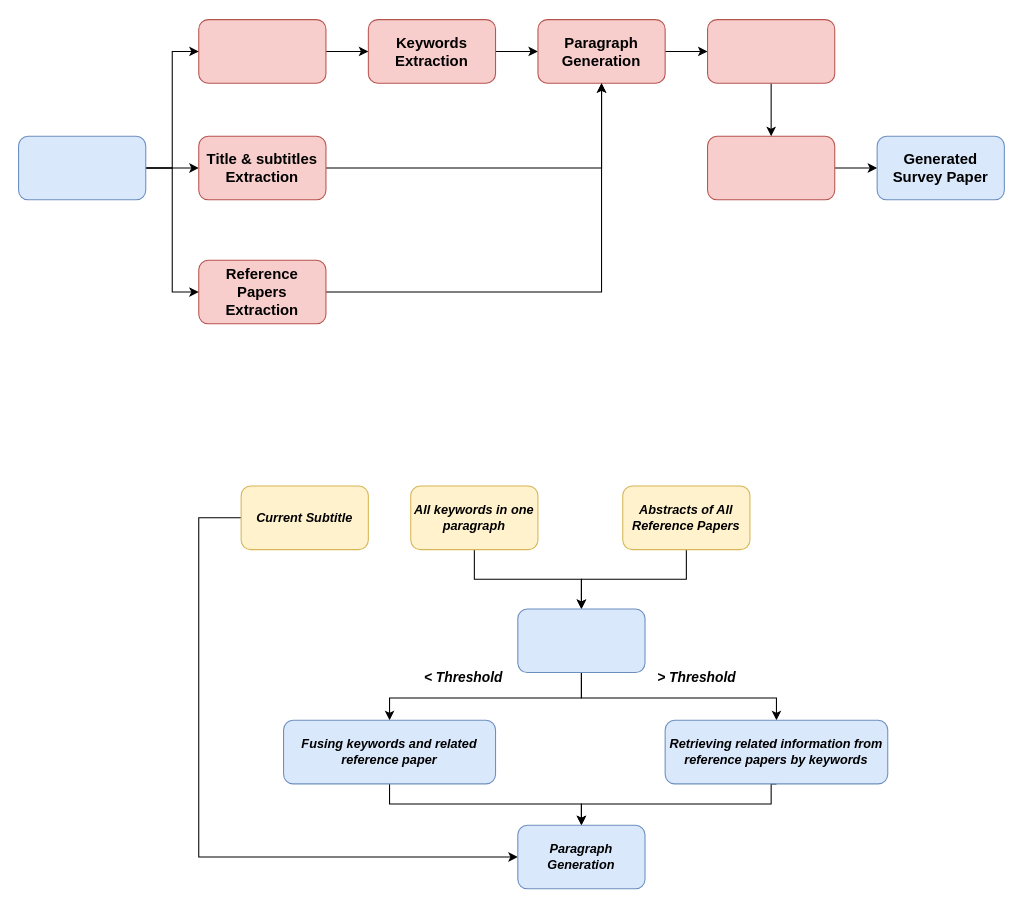
Image size: 1023x907. Some labels were removed from this diagram. Each missing label, with the box of its shape:
Content Organization: (706, 19, 835, 83)
Maintain the Readability: (706, 135, 835, 200)
Paragraph Segmentation: (198, 19, 326, 83)
Relevance measuring: (517, 608, 645, 673)
Survey Paper: (17, 135, 146, 200)
